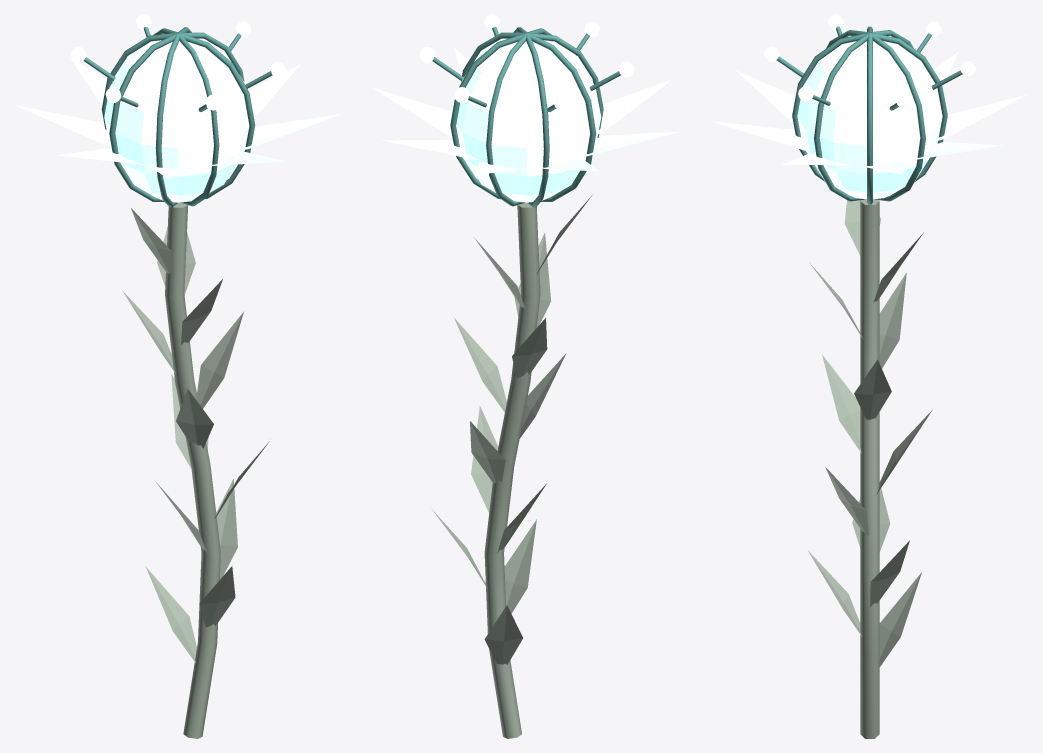
The model's file is lanternbloom.glb.
3 views of the same model, side by side, from view 1: azimuth 30°, elevation 25°; view 2: azimuth 150°, elevation 25°; view 3: azimuth 270°, elevation 25° (orthographic).
Parts seen in each view (by area): view 1: Sphere, LB_stem, LB_leaf7, LB_leaf0, LB_leaf2, LB_leaf6, LB_rib4, LB_leaf1, LB_rib7, LB_petal1, LB_rib5, LB_rib6 (+9 smaller); view 2: Sphere, LB_stem, LB_leaf1, LB_leaf0, LB_rib4, LB_leaf7, LB_rib3, LB_rib1, LB_leaf8, LB_rib2, LB_leaf5, LB_petal6 (+7 smaller); view 3: Sphere, LB_stem, LB_leaf6, LB_leaf8, LB_leaf0, LB_leaf7, LB_rib1, LB_rib7, LB_petal0, LB_rib0, LB_rib2, LB_rib6 (+9 smaller).
Part boxes in pixels (x1,y1,x2,y2): Sphere: (104,34,249,202); LB_stem: (165,202,220,738); LB_leaf7: (197,312,243,408); LB_leaf0: (145,566,196,662); LB_leaf2: (216,479,237,579); LB_leaf6: (176,389,213,448); LB_rib4: (109,33,178,201); LB_leaf1: (199,566,235,627); LB_rib7: (179,32,255,198); LB_petal1: (15,105,111,146); LB_rib5: (155,33,179,207); LB_rib6: (177,33,219,206); Sphere: (456,34,601,202); LB_stem: (484,202,540,738); LB_leaf1: (504,519,536,613); LB_leaf0: (484,605,522,664); LB_rib4: (527,33,596,201); LB_leaf7: (453,317,506,412); LB_rib3: (526,33,549,207); LB_rib1: (450,33,526,199); LB_leaf8: (512,318,547,378); LB_rib2: (486,33,527,206); LB_leaf5: (470,421,505,483); LB_petal6: (372,87,452,137); Sphere: (797,35,942,199); LB_stem: (860,199,879,738); LB_leaf6: (822,354,861,453); LB_leaf8: (879,273,906,368); LB_leaf0: (879,572,921,666); LB_leaf7: (854,359,891,419); LB_rib1: (869,33,925,201); LB_rib7: (814,33,870,201); LB_petal0: (937,94,1027,140); LB_rib0: (867,33,872,204); LB_rib2: (870,32,947,181); LB_rib6: (792,32,869,181).
Bounding box in the file's own units: 0.2984 × 0.7219 × 0.2984.
